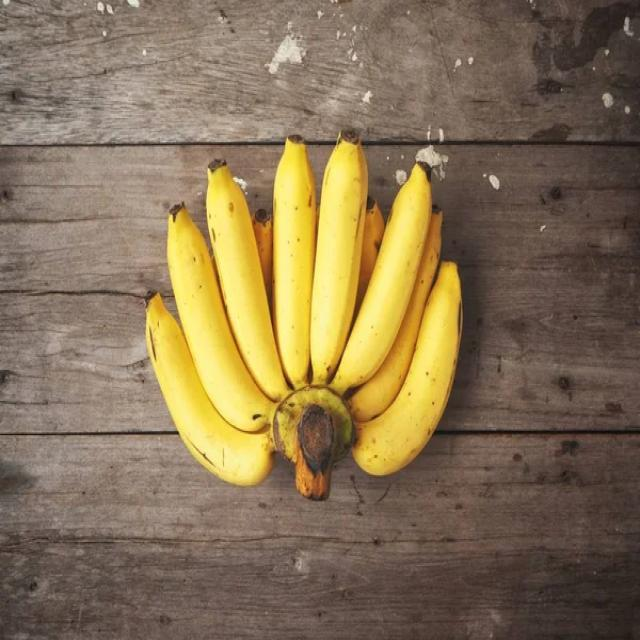banana: (143, 126, 469, 508)
